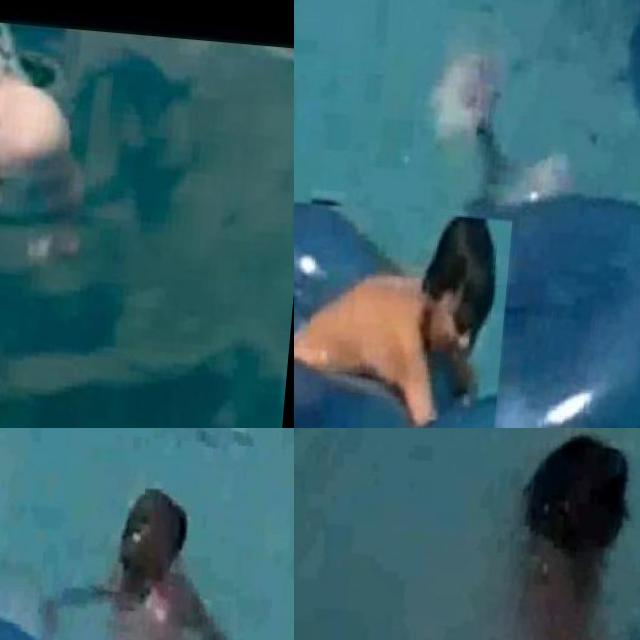drowning: (440, 428, 640, 640), (53, 438, 248, 640), (454, 70, 566, 216)
swimming: (294, 200, 513, 428), (0, 1, 88, 244)
